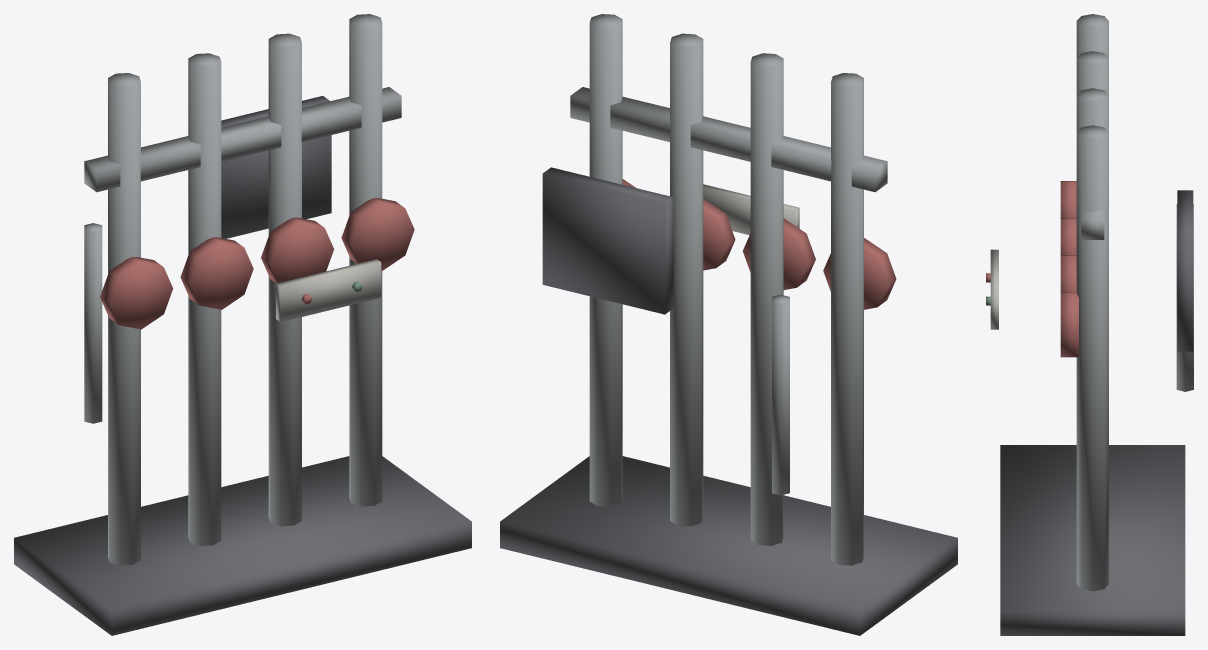
Rendered from pipe_valve_station__service.glb.
3 views of the same model, side by side, from view 1: azimuth 30°, elevation 25°; view 2: azimuth 150°, elevation 25°; view 3: azimuth 270°, elevation 25° (orthographic). The views are drawn at different scales.
Parts seen in each view (by area): view 1: world; view 2: world; view 3: world.
Part boxes in pixels (<box>): world: <box>14,14,471,635</box>; world: <box>500,14,957,635</box>; world: <box>986,14,1193,635</box>.
Size of the model in its own units: 0.85 by 1.14 by 0.4494.
